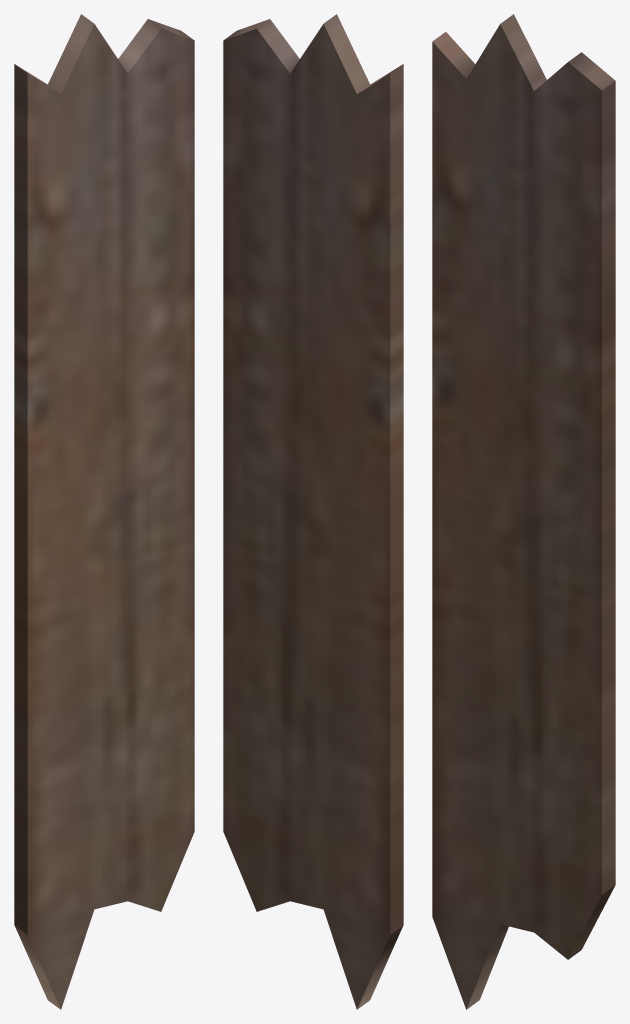
The model's file is mokuzai_1.fbx.
3 views of the same model, side by side, from view 1: azimuth 30°, elevation 25°; view 2: azimuth 150°, elevation 25°; view 3: azimuth 330°, elevation 25° (orthographic).
Parts seen in each view (by area): view 1: pCube7; view 2: pCube7; view 3: pCube7.
Part boxes in pixels (x1,y1,x2,y2): pCube7: [14, 14, 194, 1009]; pCube7: [223, 14, 403, 1009]; pCube7: [432, 14, 615, 1009].
Size of the model in its own units: 1.49 by 8.36 by 0.2064.
